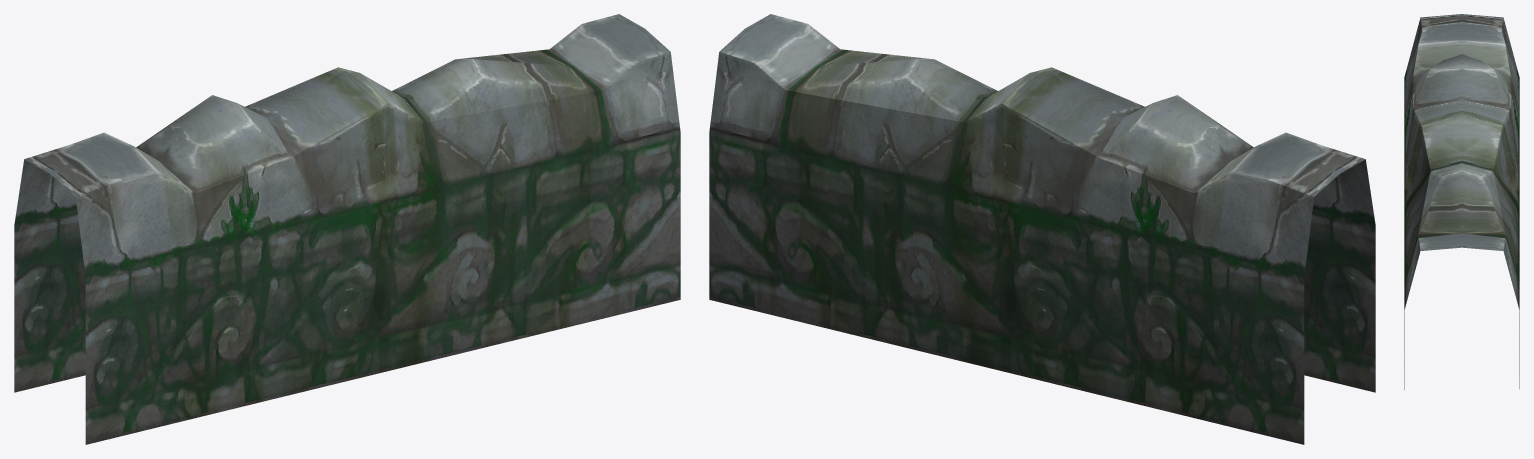
Rendered from stemple_quarter_straight_03.fbx.
3 views of the same model, side by side, from view 1: azimuth 30°, elevation 25°; view 2: azimuth 150°, elevation 25°; view 3: azimuth 270°, elevation 25° (orthographic). The views are drawn at different scales.
Parts seen in each view (by area): view 1: sunken_tileset/sunken_quarter03_mat; view 2: sunken_tileset/sunken_quarter03_mat; view 3: sunken_tileset/sunken_quarter03_mat.
Boxes of the visible parts, x1,y1,x2,y2 form: sunken_tileset/sunken_quarter03_mat: (14, 14, 680, 444); sunken_tileset/sunken_quarter03_mat: (709, 14, 1375, 444); sunken_tileset/sunken_quarter03_mat: (1404, 14, 1519, 389).
Bounding box in the file's own units: 4 × 1.74 × 0.8328.
